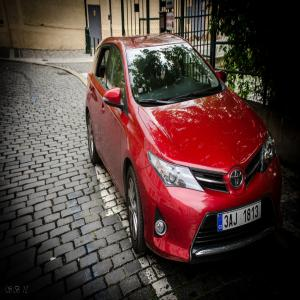Vehicle-registration-plate: (215, 202, 264, 245)
